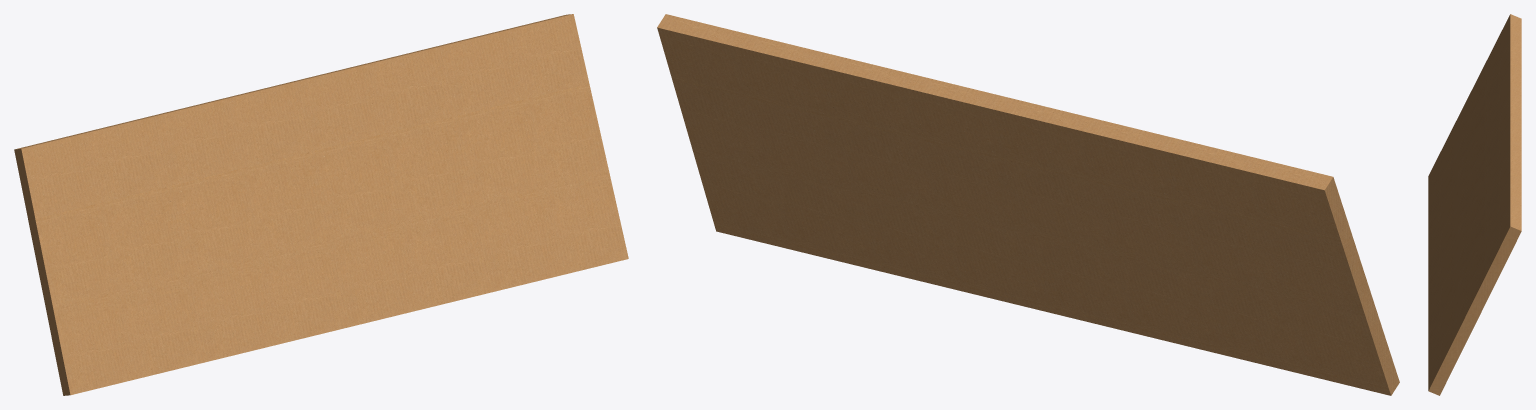
File: delivery_box_lid.obj
3 views of the same model, side by side, from view 1: azimuth 30°, elevation 25°; view 2: azimuth 150°, elevation 25°; view 3: azimuth 270°, elevation 25° (orthographic). The views are drawn at different scales.
Parts seen in each view (by area): view 1: delivery_box_lid; view 2: delivery_box_lid; view 3: delivery_box_lid.
Boxes of the visible parts, x1,y1,x2,y2 form: delivery_box_lid: (14, 14, 628, 395); delivery_box_lid: (657, 14, 1399, 395); delivery_box_lid: (1428, 14, 1521, 395).
Size of the model in its own units: 0.2446 by 0.0894 by 0.045.
Materials: 2 (2 with a texture image).
